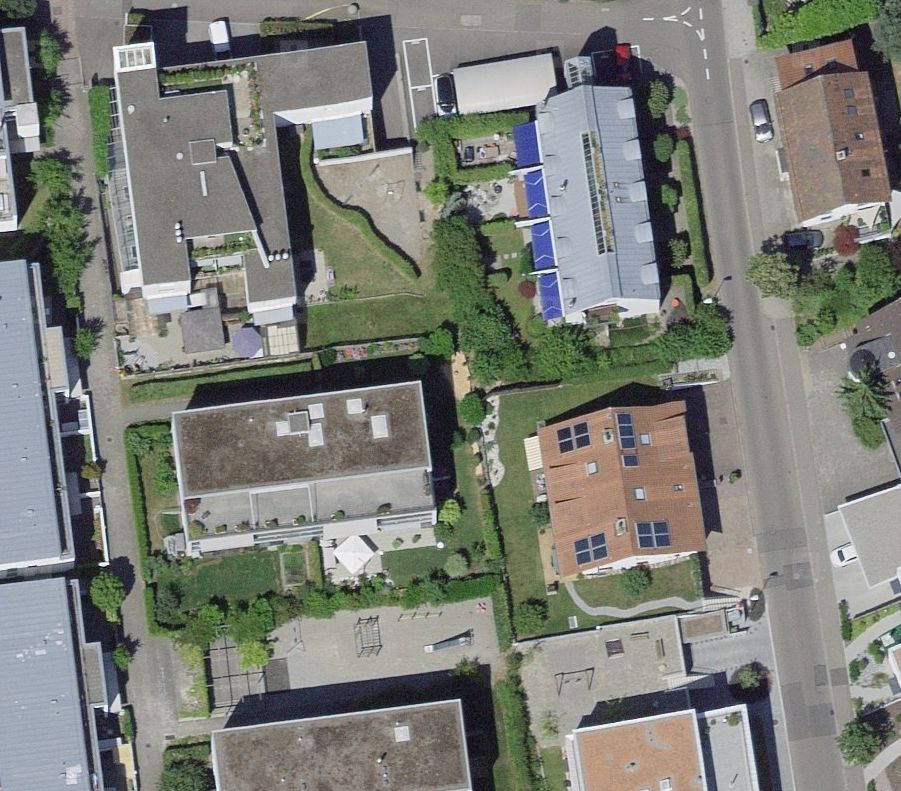solar: (548, 409, 678, 568)
